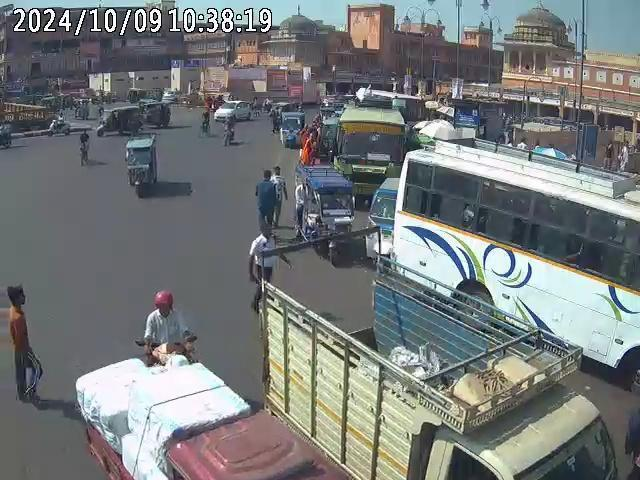auto: (295, 165, 357, 255), (123, 132, 159, 197), (98, 104, 141, 136), (277, 109, 304, 147)
bicycle: (78, 139, 90, 166), (221, 124, 236, 145), (200, 112, 212, 137)
bus: (392, 144, 638, 354), (334, 103, 409, 196)
car: (213, 99, 252, 122)
helmet: (152, 291, 176, 318)
lorry: (252, 260, 620, 479), (72, 356, 352, 479)
motorbike-rider: (49, 113, 70, 137), (0, 119, 13, 149)
person: (6, 286, 41, 409), (252, 222, 278, 308), (255, 169, 285, 230), (301, 123, 322, 166), (78, 129, 90, 159)
scooty-rider: (140, 288, 196, 366)
